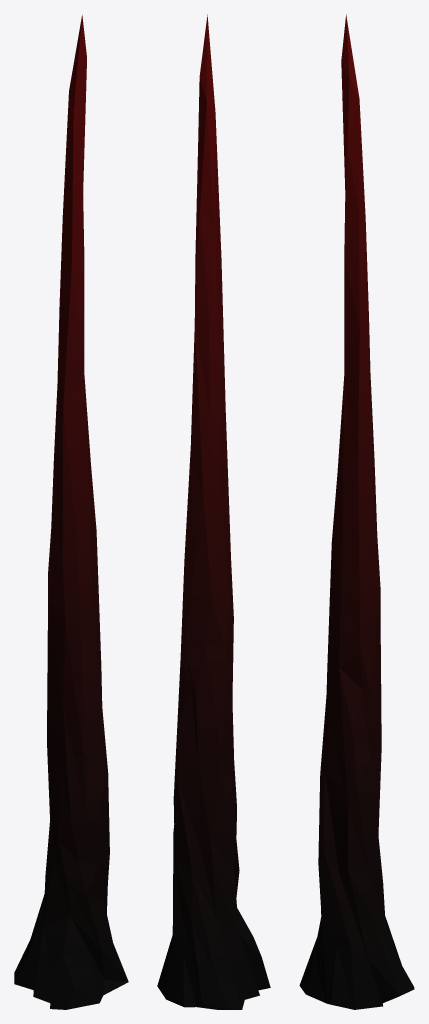
File: SM_Env_Tree_Large_01_Collision.fbx
3 views of the same model, side by side, from view 1: azimuth 90°, elevation 25°; view 2: azimuth 210°, elevation 25°; view 3: azimuth 270°, elevation 25° (orthographic).
Parts seen in each view (by area): view 1: SM_Env_Tree_Large_01_Collision; view 2: SM_Env_Tree_Large_01_Collision; view 3: SM_Env_Tree_Large_01_Collision.
Boxes of the visible parts, <box> form: SM_Env_Tree_Large_01_Collision: <box>14,15,128,1009</box>; SM_Env_Tree_Large_01_Collision: <box>157,14,270,1009</box>; SM_Env_Tree_Large_01_Collision: <box>299,14,414,1009</box>.
Size of the model in its own units: 436 by 4145 by 441.
